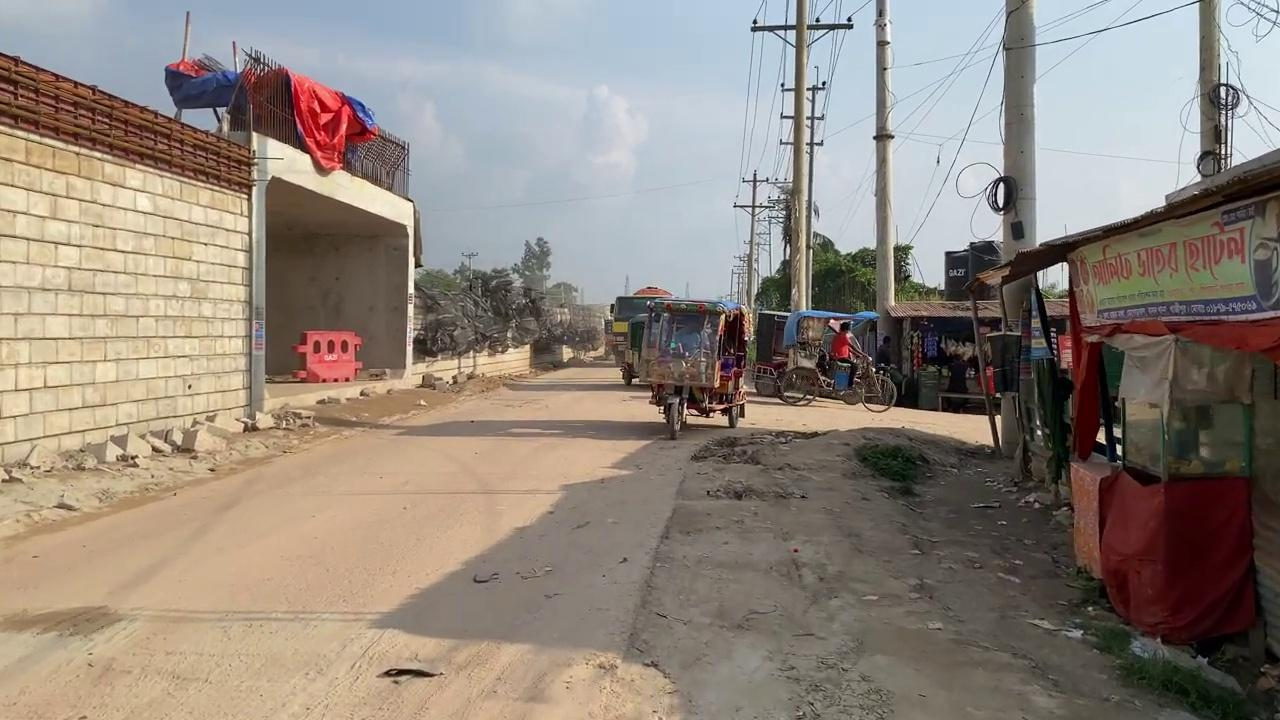Fence: (227, 45, 410, 197)
Garbage: (412, 270, 602, 362)
Garbage-bin: (291, 329, 363, 382)
Obstacle: (964, 146, 1278, 654)
Pole: (998, 1, 1040, 452), (871, 1, 897, 366), (789, 0, 810, 311), (1196, 0, 1222, 176)
Rickshaw: (598, 423, 1009, 717)
Traffic-sign: (510, 235, 552, 292)
Tree: (640, 298, 750, 440), (611, 285, 675, 385)
Upstairs: (0, 122, 253, 466)
